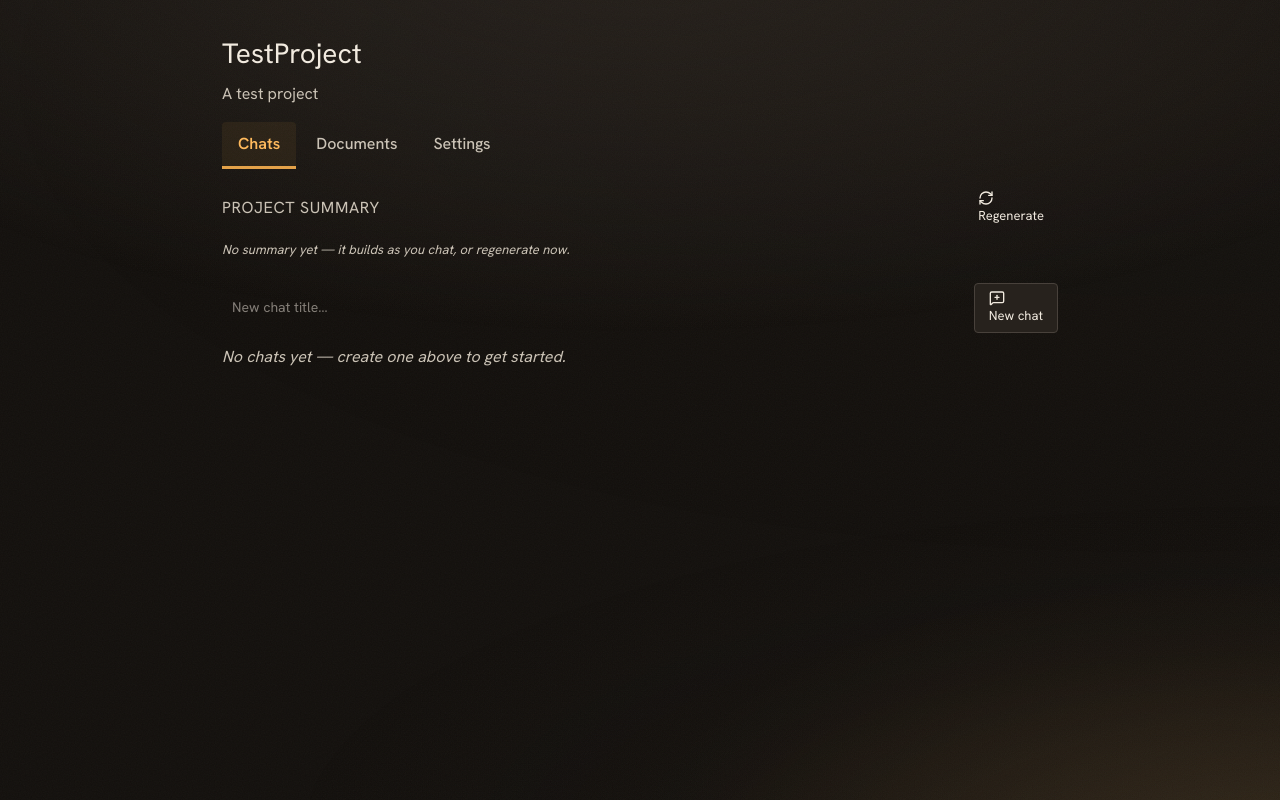
Test case: Project page › clicking the name button opens the rename input
Click the button with aria-label "Rename TestProject".
click(292, 53)  # box [222,32,1058,74]
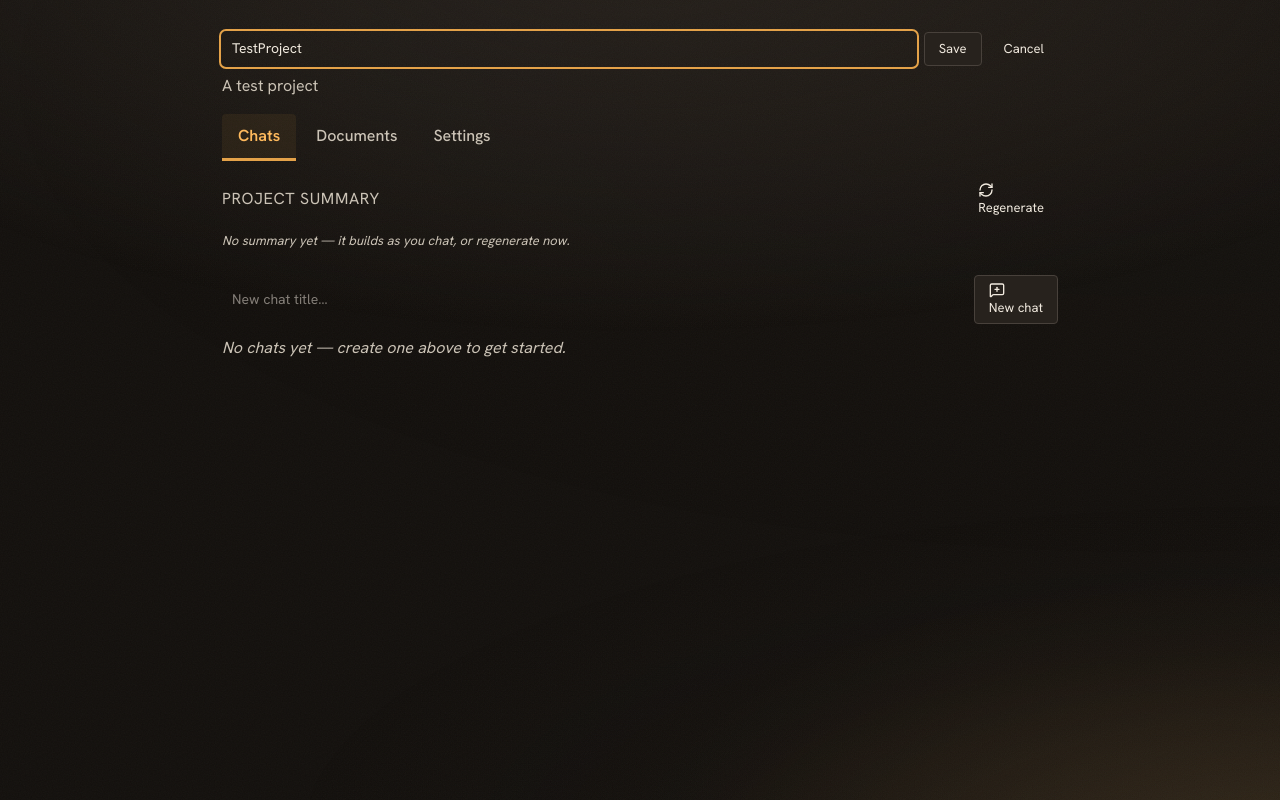
Expected: the field showing "TestProject" is shown, [222,32,916,66]
